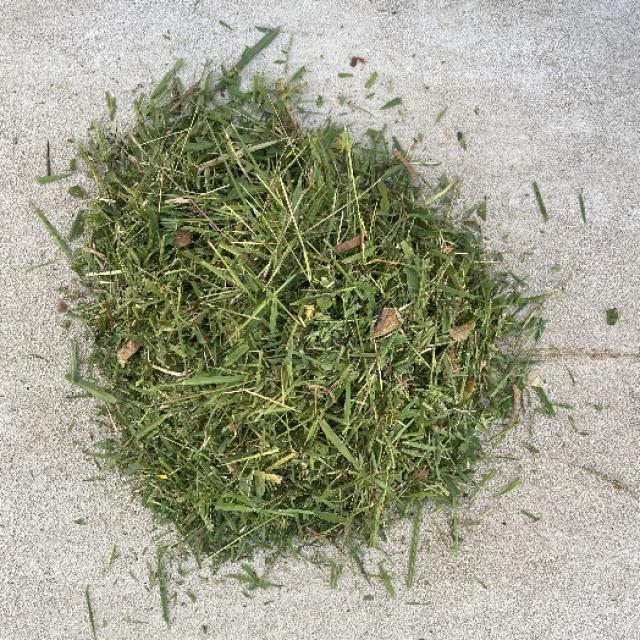organik: (85, 65, 545, 572)
